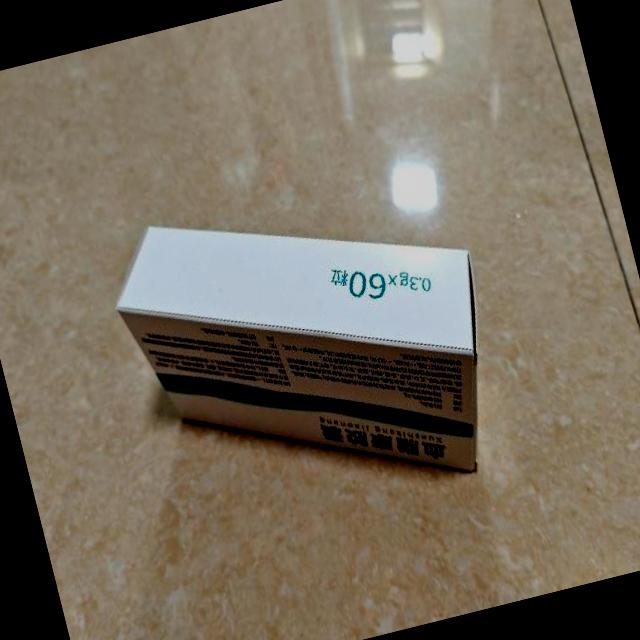box: (97, 149, 520, 546)
